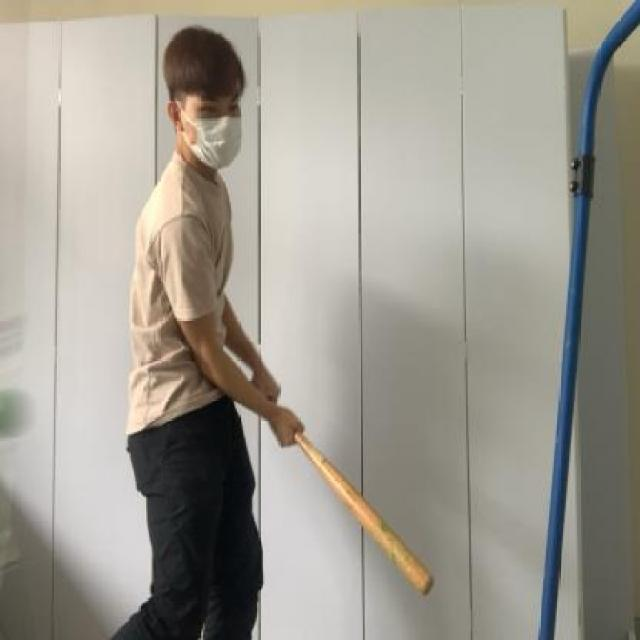baseball: (0, 379, 37, 448)
